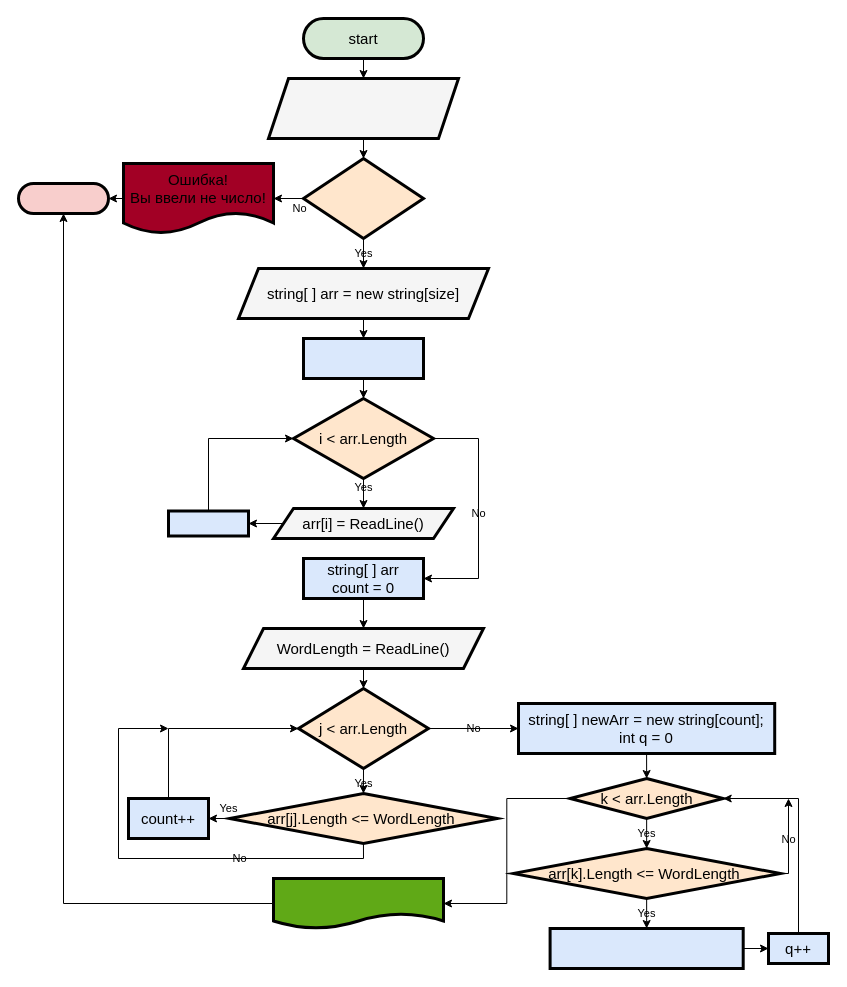
Image size: 847x987. Some labels were removed from this diagram. The shapes that lost their labels are listed below. From the top down, each one's centre as x and y in pixels, then its label:
At point 363,108: "size = ReadLine()".
At point 63,198: "End".
At point 363,198: "if(!isSize)".
At point 363,358: "int i = 0".
At point 208,523: "i ++".
At point 358,903: "Print string[ ] newArr".
At point 646,948: "newArr[q] = arr[k]".
